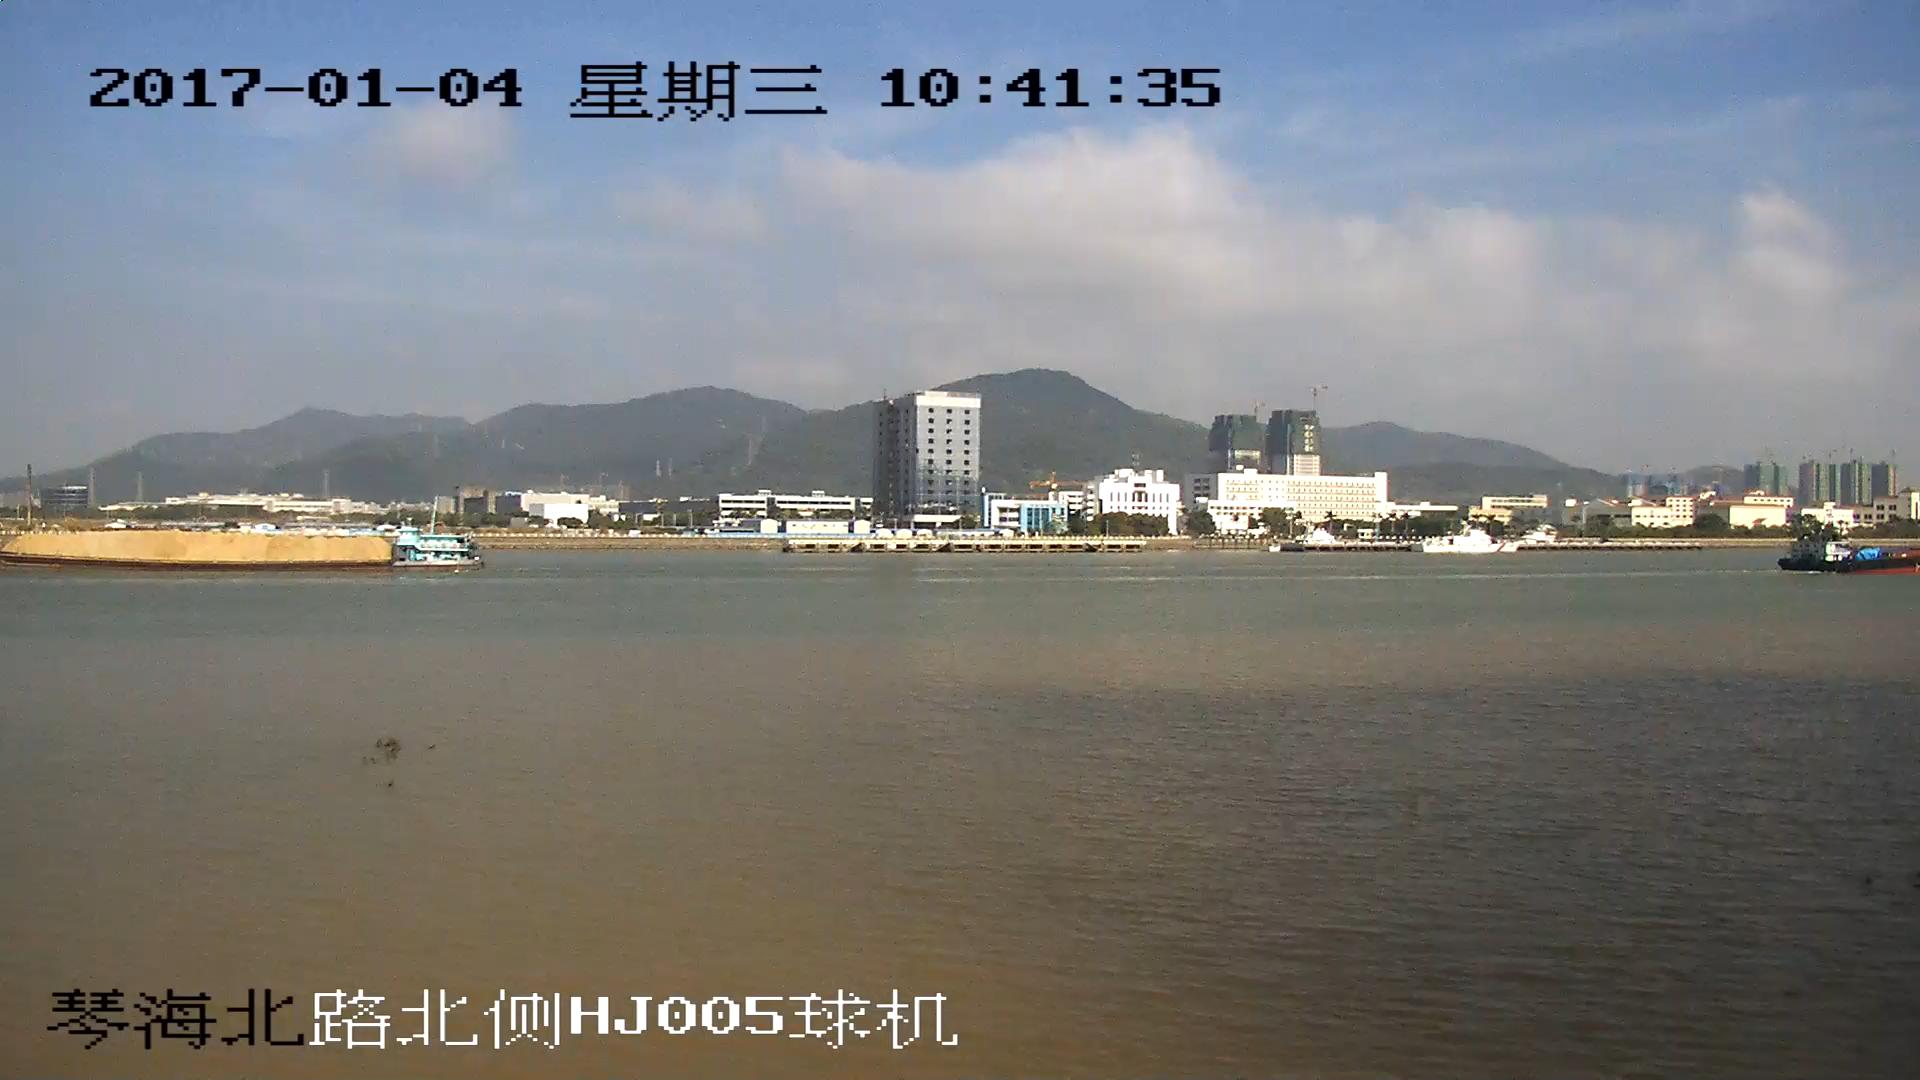container ship: (1785, 535, 1920, 572)
ore carrier: (1, 524, 480, 572)
